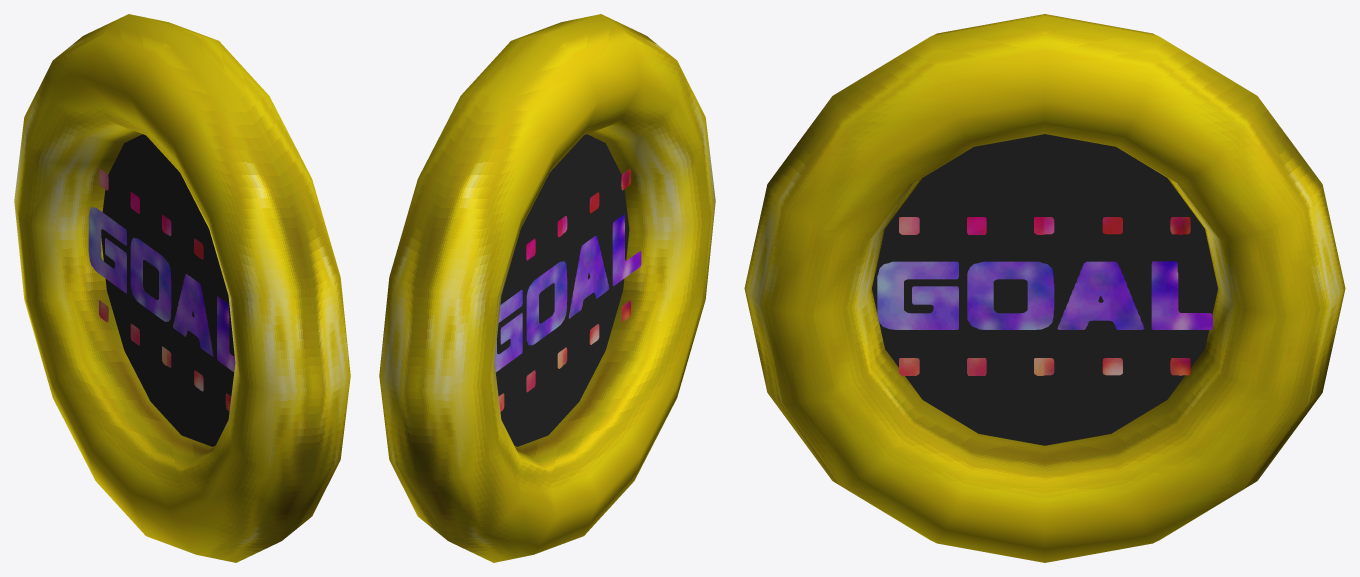
Rendered from GoalRing.obj.
3 views of the same model, side by side, from view 1: azimuth 30°, elevation 25°; view 2: azimuth 150°, elevation 25°; view 3: azimuth 270°, elevation 25° (orthographic). The views are drawn at different scales.
Size of the model in its own units: 10.94 by 51.43 by 51.43.
Materials: 3 (3 with a texture image).
